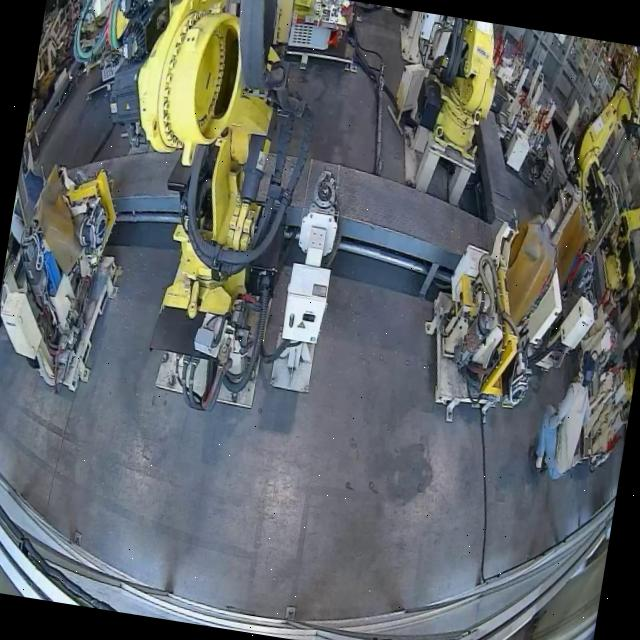Person: (530, 362, 597, 484)
